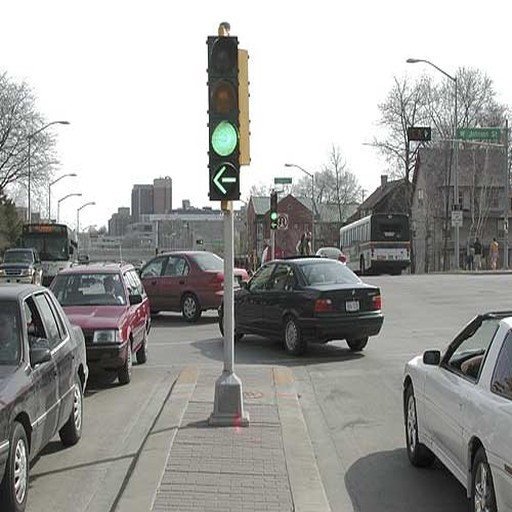car: (397, 302, 512, 512), (1, 279, 92, 512), (216, 255, 389, 363), (44, 258, 156, 386), (137, 249, 255, 322)
truck: (1, 244, 44, 287)
